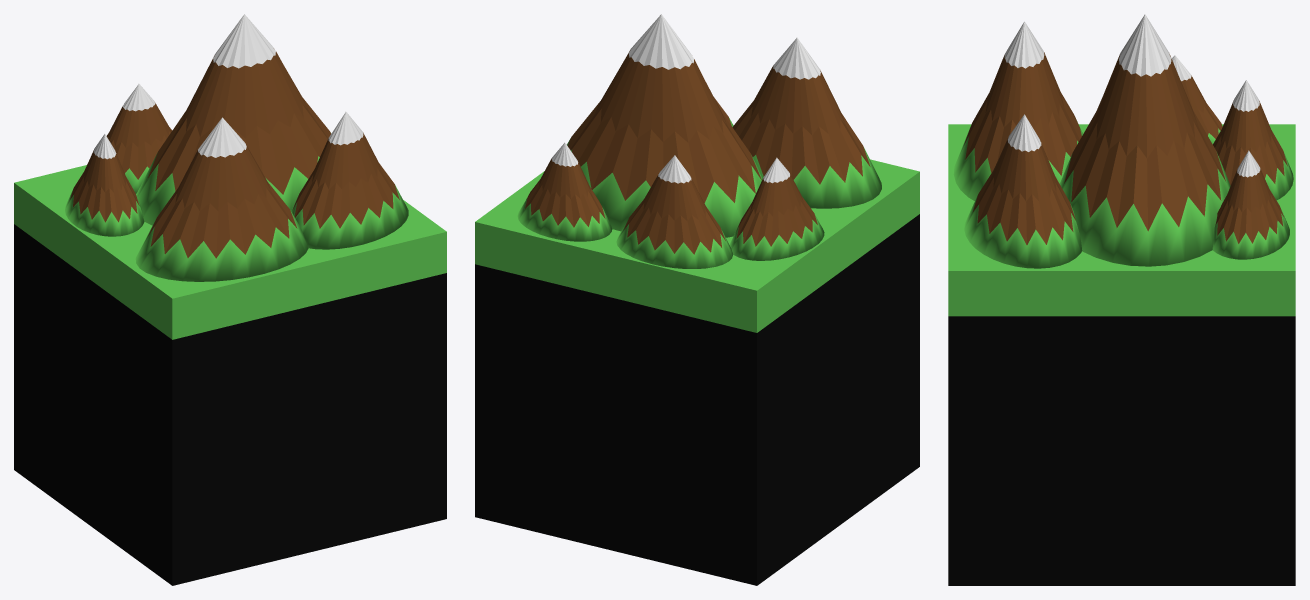
The model's file is Tile-Mountain.glb.
The picture shows the model from 3 angles, left to right: view 1: azimuth 30°, elevation 25°; view 2: azimuth 150°, elevation 25°; view 3: azimuth 270°, elevation 25°; orthographic projection. The views are drawn at different scales.
Parts seen in each view (by area): view 1: Cube; view 2: Cube; view 3: Cube.
Part boxes in pixels (x1,y1,x2,y2): Cube: (14,14,446,585); Cube: (475,14,919,585); Cube: (948,14,1295,585).
Bounding box in the file's own units: 2 × 3.25 × 2.
